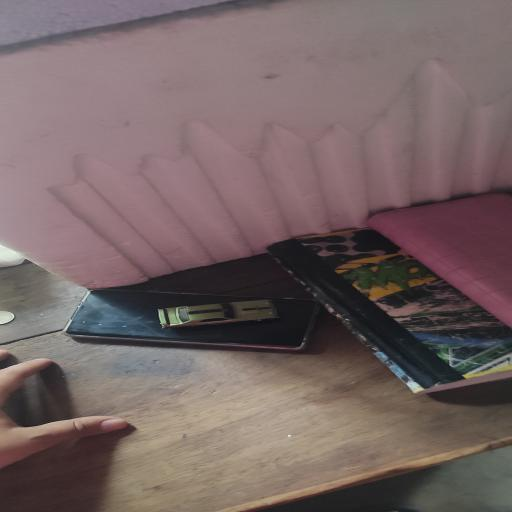Carrito: (159, 299, 278, 328)
